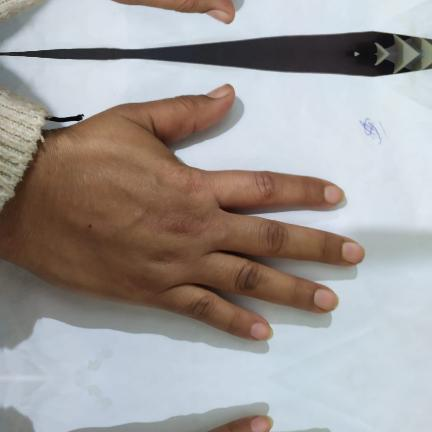Nail: (314, 289, 339, 311), (341, 242, 365, 264), (250, 323, 274, 341), (206, 83, 234, 98), (206, 10, 234, 25), (323, 186, 345, 205), (250, 415, 274, 432)
